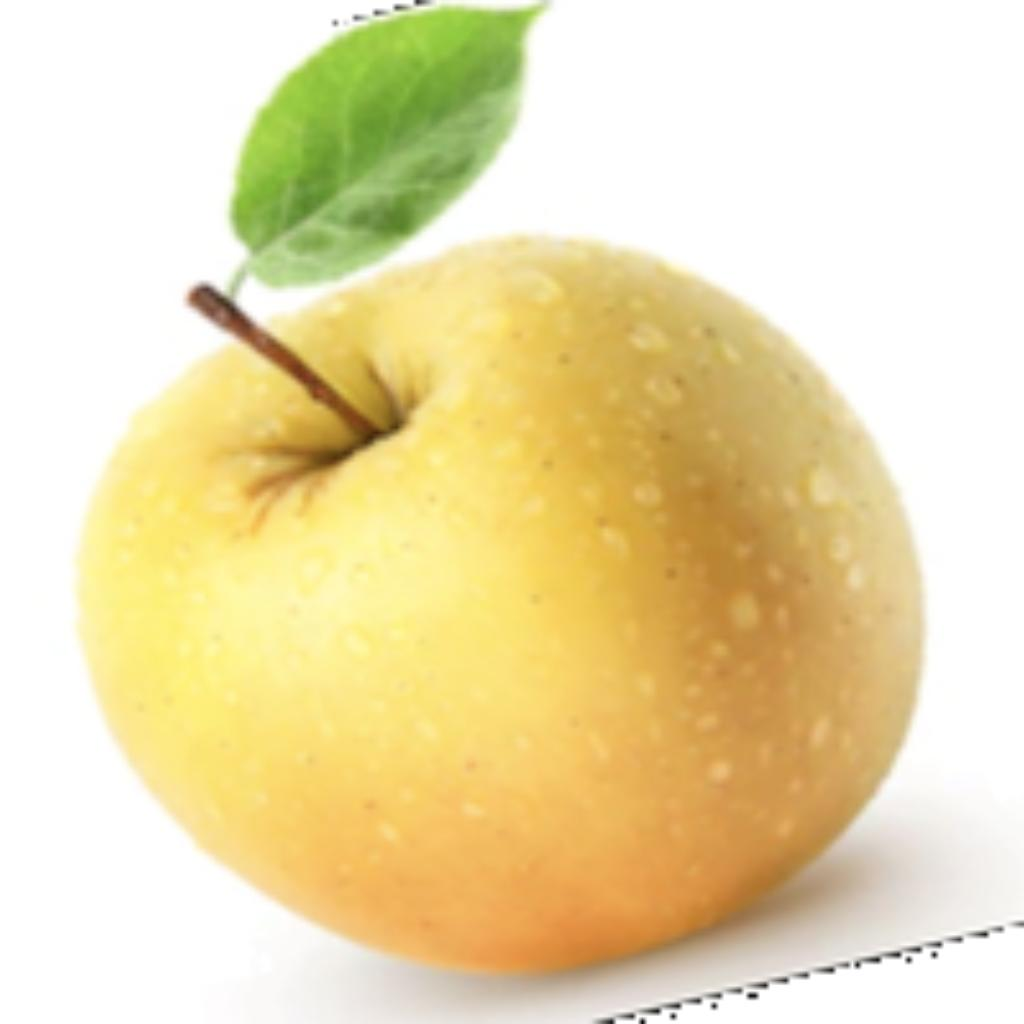apple: (67, 0, 982, 1019)
